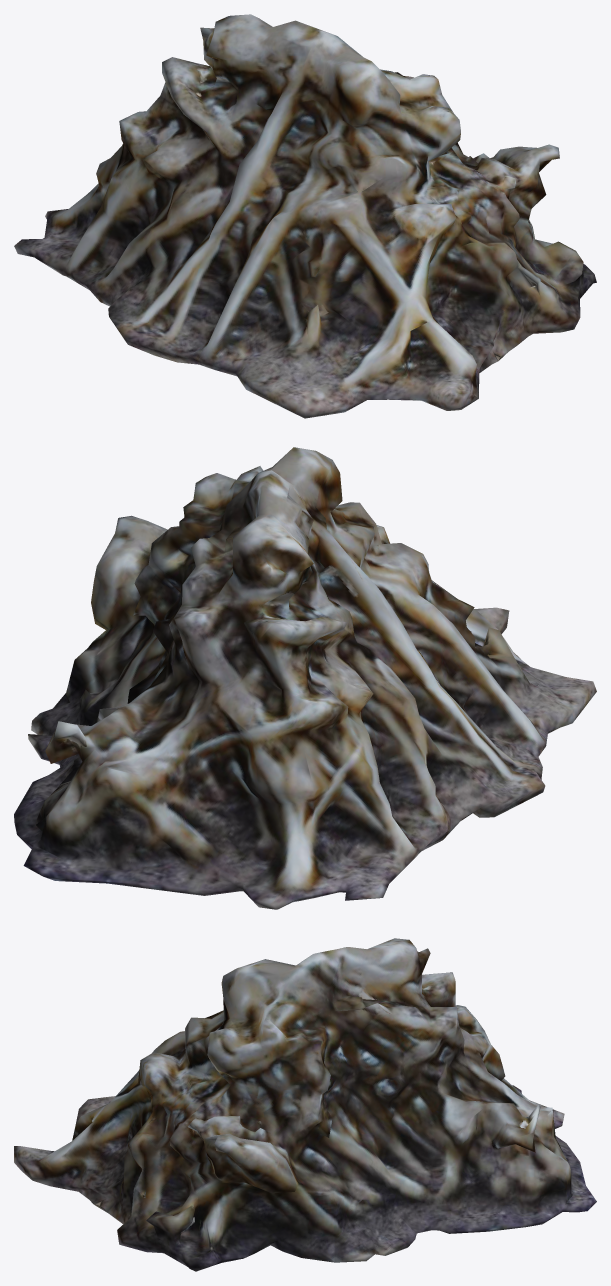
Rendered from Skeleton pile.fbx.
3 renders of one model, top to bottom at view 1: azimuth 30°, elevation 25°; view 2: azimuth 150°, elevation 25°; view 3: azimuth 270°, elevation 25°, orthographic. The views are drawn at different scales.
Parts seen in each view (by area): view 1: mesh; view 2: mesh; view 3: mesh.
Part boxes in pixels (left/top/right/bottom): mesh: left=14, top=14, right=596, bottom=418; mesh: left=14, top=447, right=596, bottom=909; mesh: left=14, top=938, right=596, bottom=1271.
Size of the model in its own units: 76.38 by 44.23 by 99.97.
